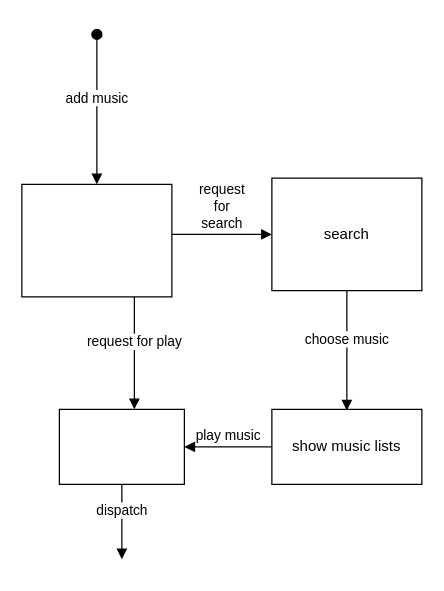
Image size: 444x591. Some labels were removed from this diagram. Each missing label, with the centre of its shape:
add: (96,240)
play: (121,446)
